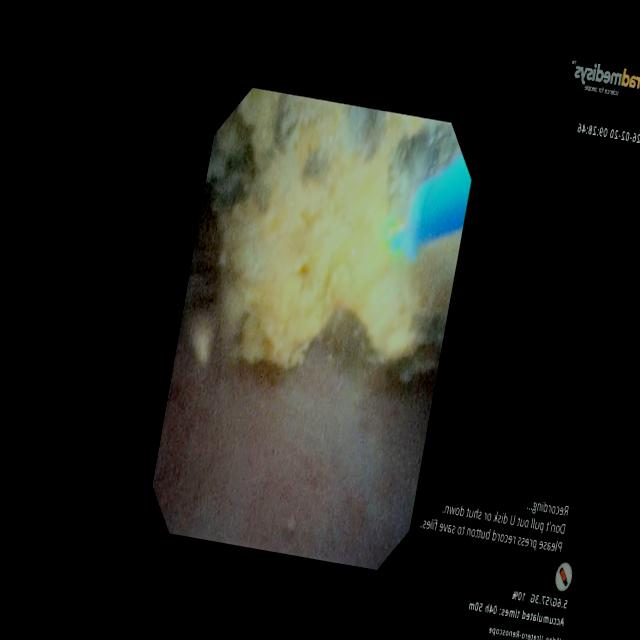stone-new: (206, 87, 462, 370)
